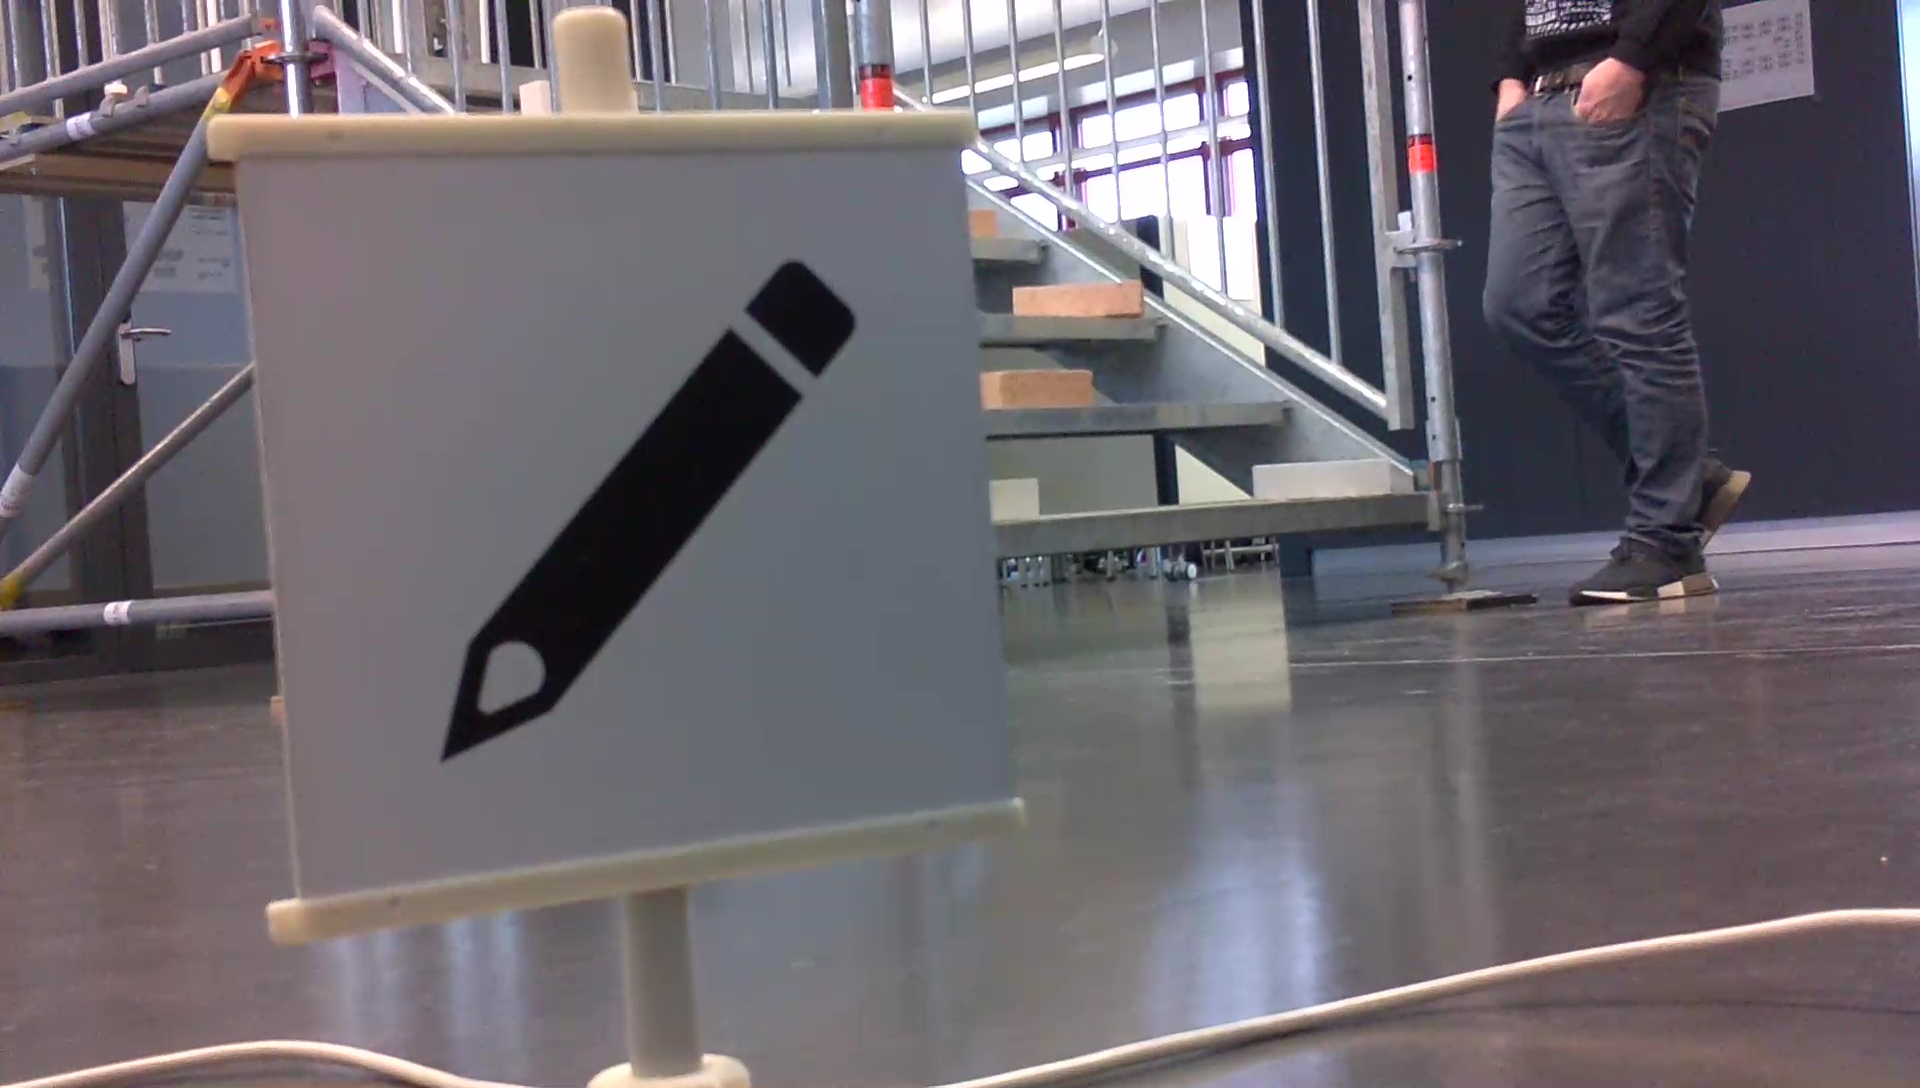brick: (1253, 460, 1393, 496), (980, 368, 1091, 408), (1011, 282, 1141, 313), (990, 475, 1035, 518), (965, 207, 994, 235)
edge: (1002, 493, 1422, 550), (985, 402, 1300, 430), (977, 315, 1166, 338), (971, 237, 1054, 260)
pencil: (422, 247, 869, 771)
